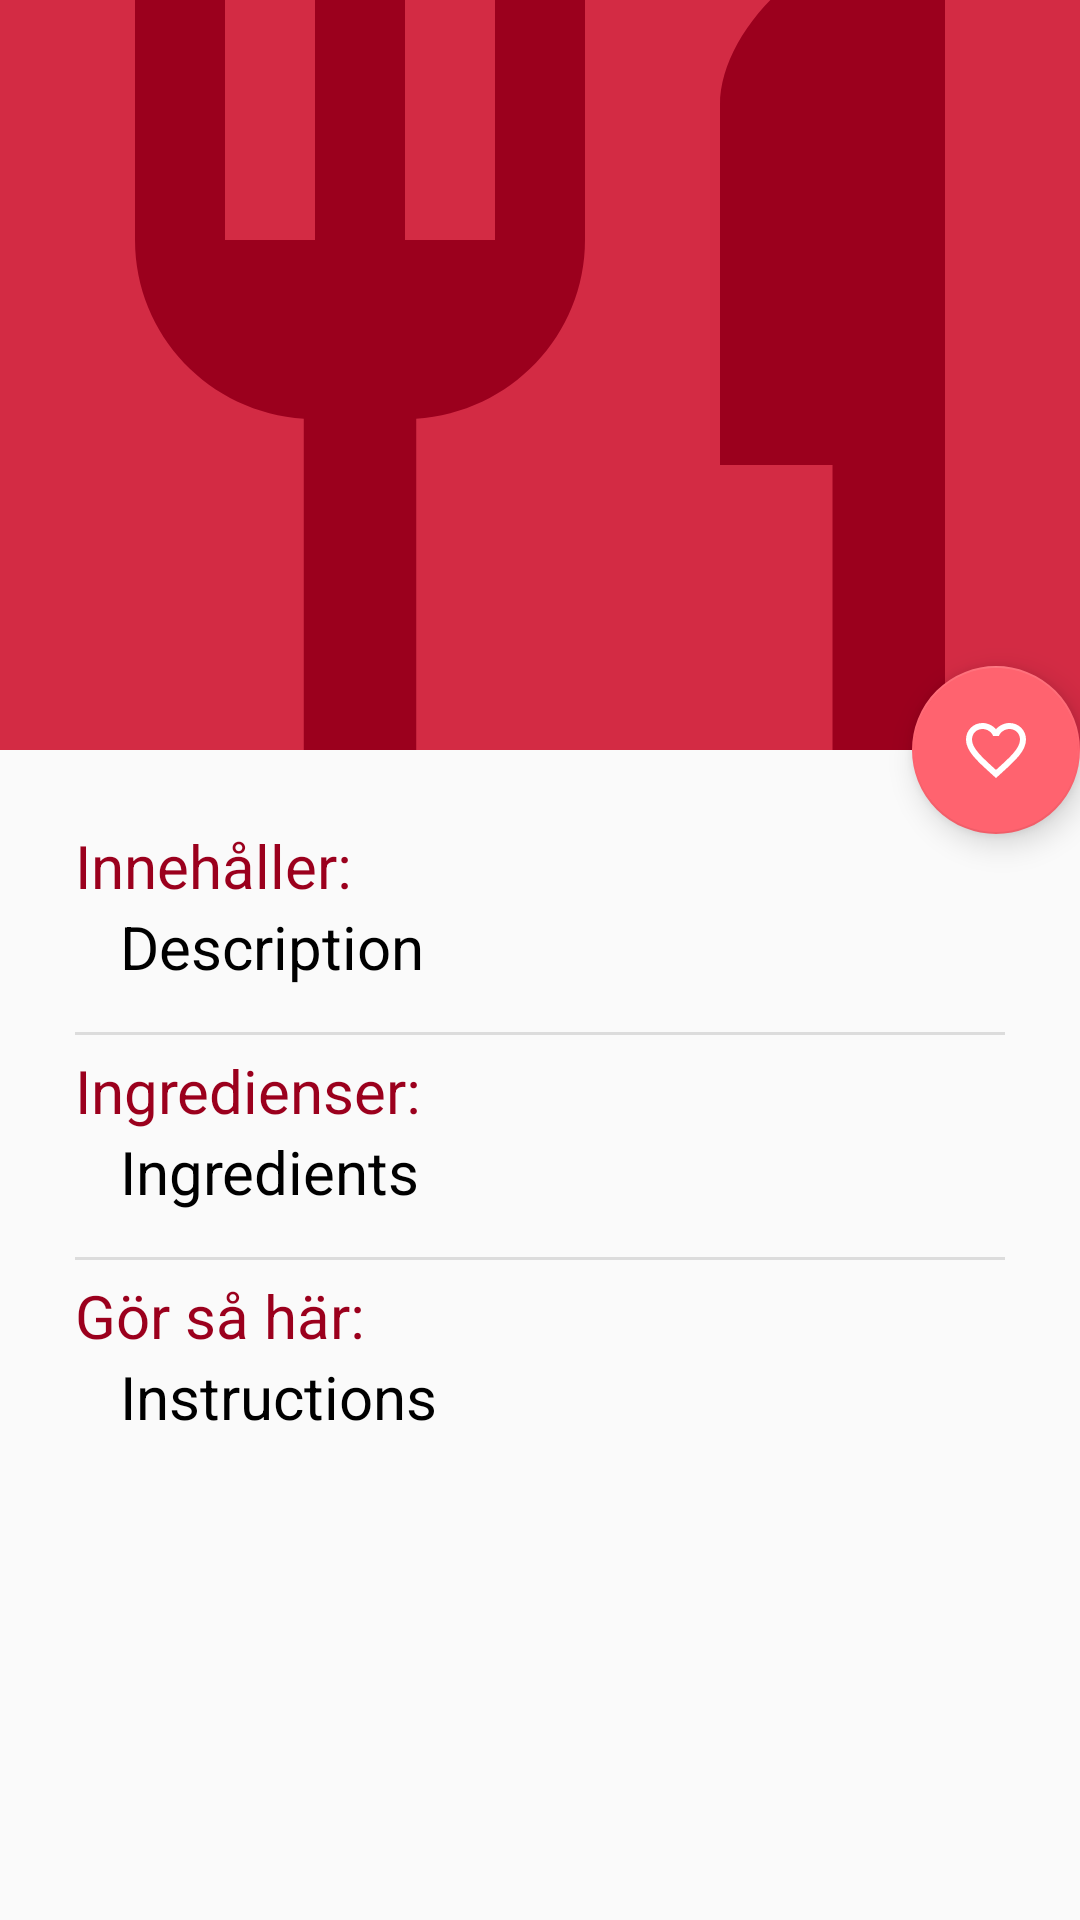

Named icons in this screenshot (1080*1920) and their centers, (x=x, y=y):
favorite border: (x=996, y=750)
